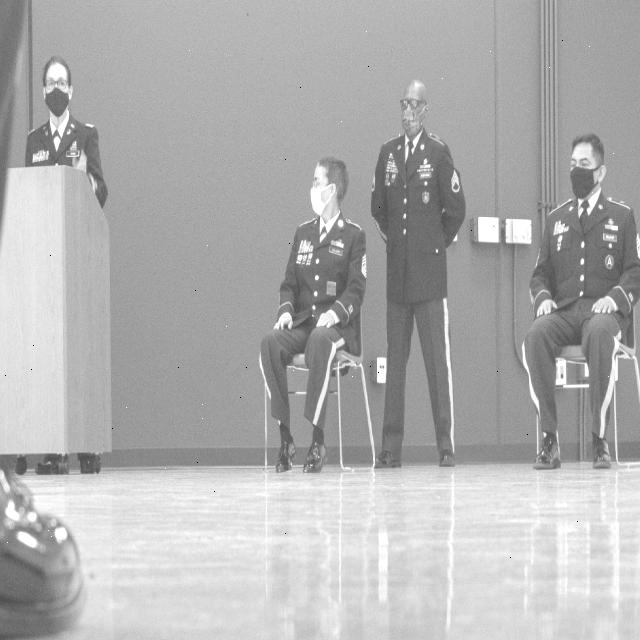police: (231, 120, 374, 490), (373, 61, 495, 483), (539, 113, 640, 527), (16, 36, 130, 263)
